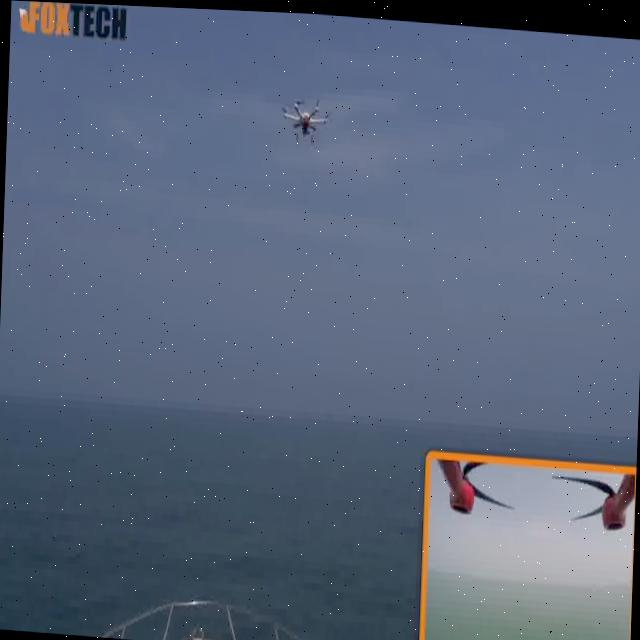drone: (269, 89, 334, 149)
